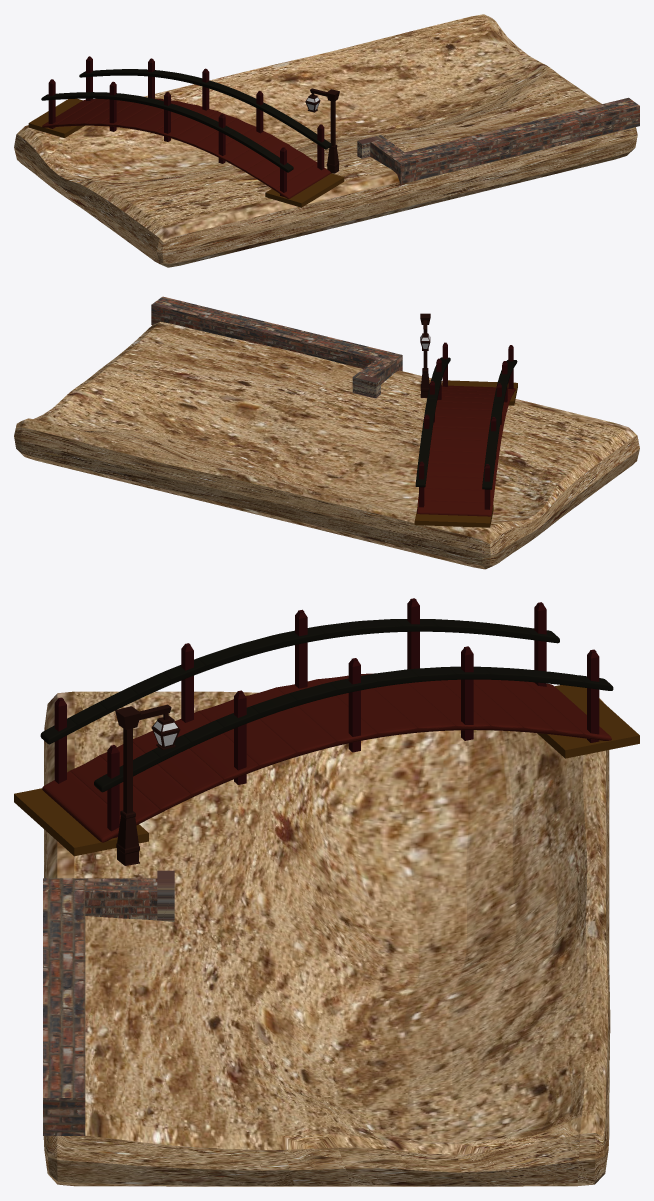
Rendered from composite_scene.obj.
3 renders of one model, top to bottom at view 1: azimuth 30°, elevation 25°; view 2: azimuth 150°, elevation 25°; view 3: azimuth 270°, elevation 25°, orthographic. The views are drawn at different scales.
Visible parts, largest first — view 1: BaseRiverBed, Wall, Bridge_Base, Bridge_Hand_Support, Bridge_Hand_Support.001, Foot_Support.001, LampPost, Foot_Support; view 2: BaseRiverBed, Bridge_Base, Wall, Bridge_Hand_Support.001, Bridge_Hand_Support, Foot_Support, LampPost, Foot_Support.001; view 3: BaseRiverBed, Bridge_Base, Wall, Bridge_Hand_Support, Bridge_Hand_Support.001, LampPost, Foot_Support.001, Foot_Support, Bridge_Support.002, Bridge_Support.001, Bridge_Support.007, Bridge_Support.005 (+6 smaller).
Boxes of the visible parts, <box> form: BaseRiverBed: <box>14,14,637,267</box>; Wall: <box>357,97,639,184</box>; Bridge_Base: <box>42,98,330,198</box>; Bridge_Hand_Support: <box>41,92,293,172</box>; Bridge_Hand_Support.001: <box>79,69,331,149</box>; Foot_Support.001: <box>265,173,344,207</box>; LampPost: <box>305,88,339,173</box>; Foot_Support: <box>28,98,84,137</box>; BaseRiverBed: <box>14,321,639,569</box>; Bridge_Base: <box>417,385,515,516</box>; Wall: <box>151,296,402,398</box>; Bridge_Hand_Support.001: <box>415,357,450,487</box>; Bridge_Hand_Support: <box>482,360,517,489</box>; Foot_Support: <box>414,504,493,527</box>; LampPost: <box>420,313,430,397</box>; Foot_Support.001: <box>441,380,517,405</box>; BaseRiverBed: <box>43,691,610,1186</box>; Bridge_Base: <box>42,673,611,842</box>; Wall: <box>43,870,174,1135</box>; Bridge_Hand_Support: <box>40,619,559,744</box>; Bridge_Hand_Support.001: <box>94,666,613,792</box>; LampPost: <box>115,704,180,865</box>; Foot_Support.001: <box>14,788,148,856</box>; Foot_Support: <box>537,685,639,758</box>; Bridge_Support.002: <box>461,646,473,740</box>; Bridge_Support.001: <box>348,658,360,752</box>; Bridge_Support.007: <box>587,649,599,742</box>; Bridge_Support.005: <box>234,690,246,784</box>.
Size of the model in its own units: 99.87 by 23.48 by 59.55.
